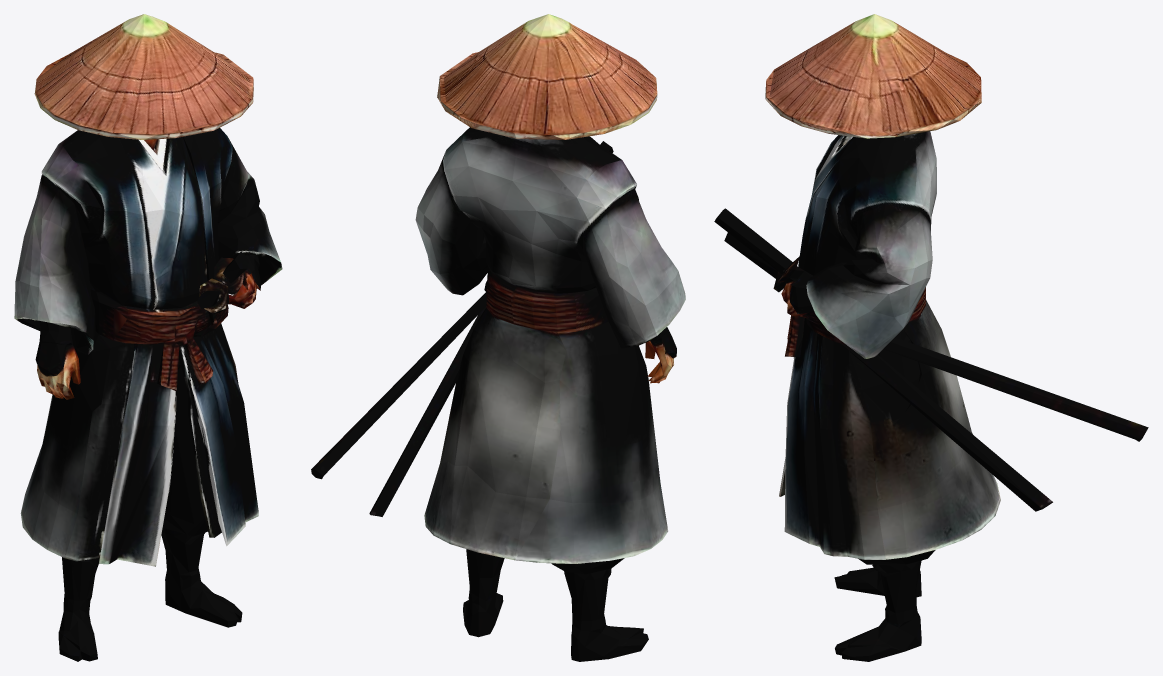
The model's file is KENSAI_SAMURAI_3D.fbx.
The picture shows the model from 3 angles, left to right: view 1: azimuth 30°, elevation 25°; view 2: azimuth 150°, elevation 25°; view 3: azimuth 270°, elevation 25°; orthographic projection.
Visible parts, largest first — view 1: material; view 2: material; view 3: material.
Part boxes in pixels (x1,y1,x2,y2): material: [14, 14, 282, 661]; material: [311, 14, 685, 661]; material: [714, 14, 1148, 661].
Bounding box in the file's own units: 79.1 × 190 × 123.
Materials: 1 (1 with a texture image).
